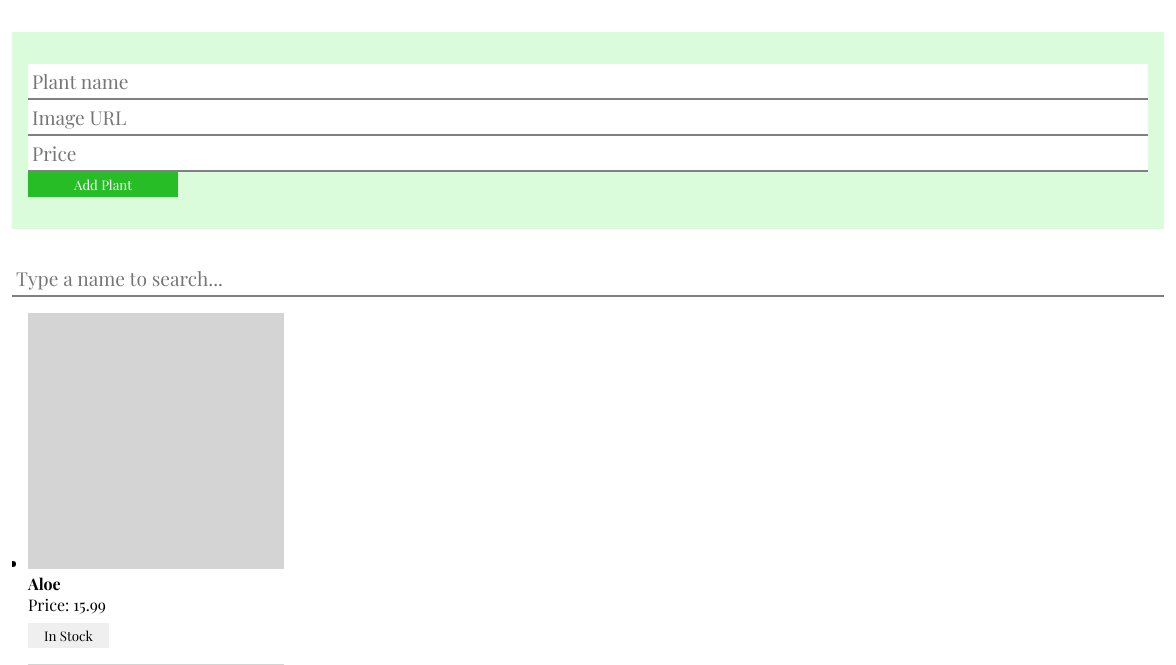
3rd Deliverable › marks a plant as sold out
Note: Find and click the "In Stock" button within the first plant item
Click the button "In Stock" at [68, 636], box left=28, top=623, right=109, bottom=648
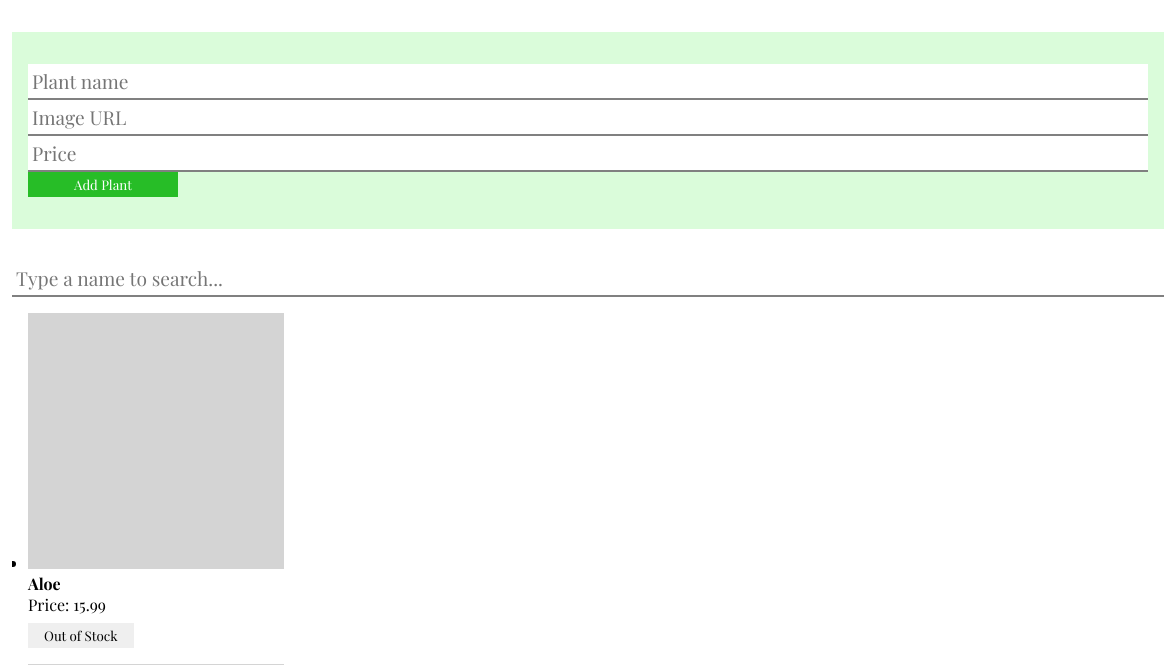
Expected: the button "Out of Stock" is shown, left=28, top=623, right=134, bottom=648
